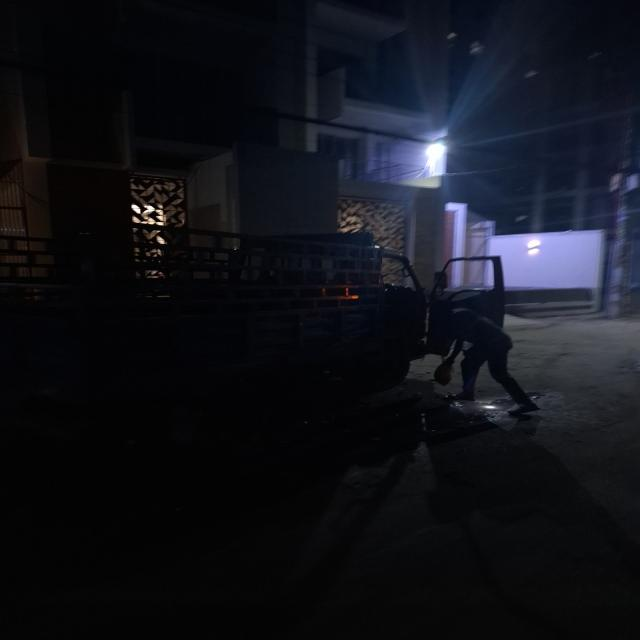pedestrian: (428, 311, 542, 411)
pickup_van: (9, 228, 514, 396)
